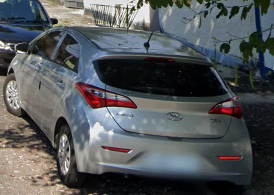car: (4, 24, 255, 189)
